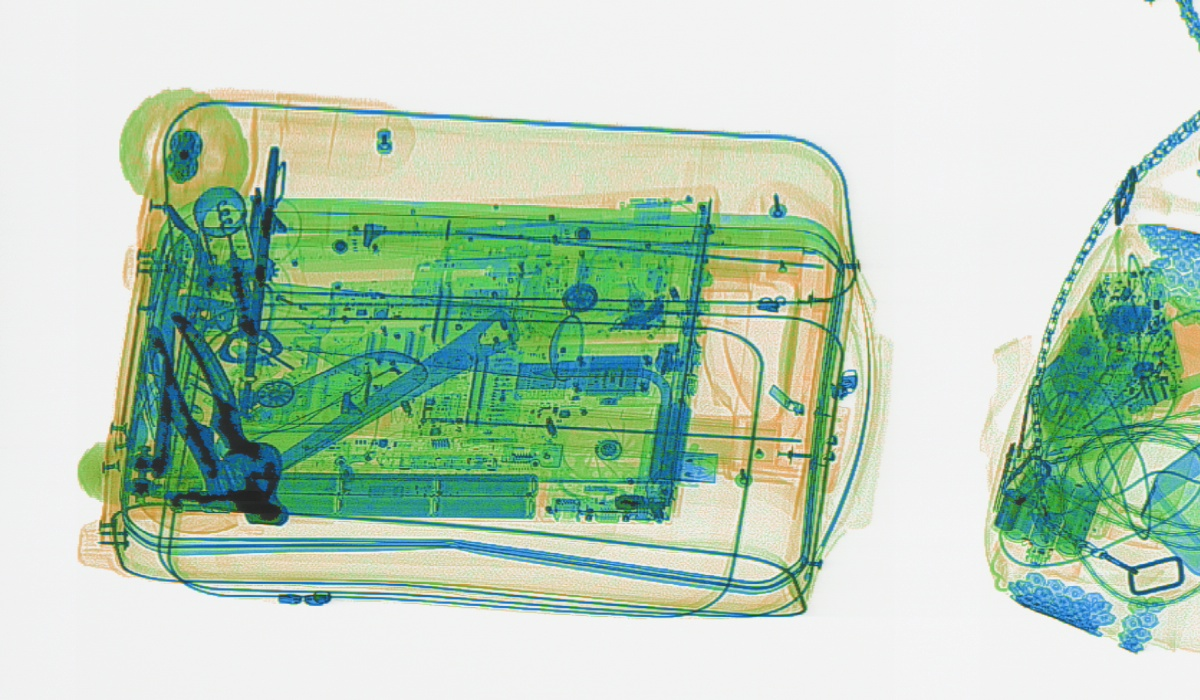knife: (122, 233, 185, 471)
powerbank: (988, 470, 1104, 580)
